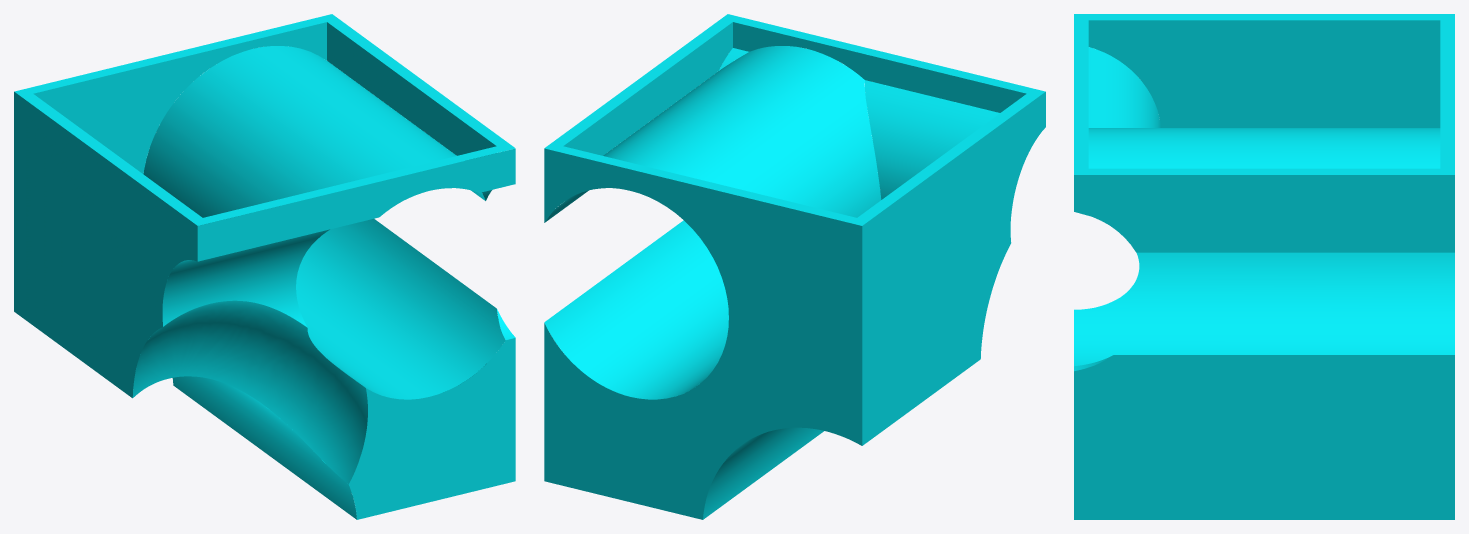
The picture shows the model from 3 angles, left to right: view 1: azimuth 30°, elevation 25°; view 2: azimuth 150°, elevation 25°; view 3: azimuth 270°, elevation 25°; orthographic projection. The views are drawn at different scales.
Parts seen in each view (by area): view 1: 70_vars_w-txt; view 2: 70_vars_w-txt; view 3: 70_vars_w-txt.
Part boxes in pixels (<box>): 70_vars_w-txt: <box>14,14,515,519</box>; 70_vars_w-txt: <box>544,14,1045,519</box>; 70_vars_w-txt: <box>1074,14,1454,519</box>.
Size of the model in its own units: 0.042 by 0.042 by 0.042.
